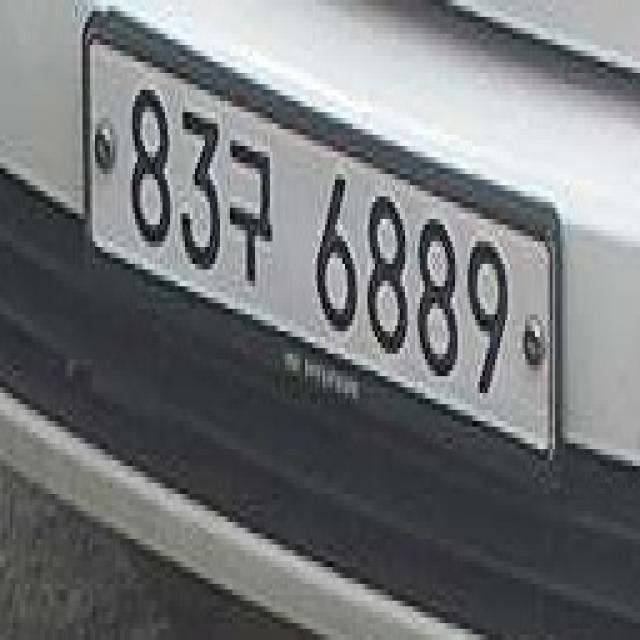plat: (79, 8, 565, 463)
